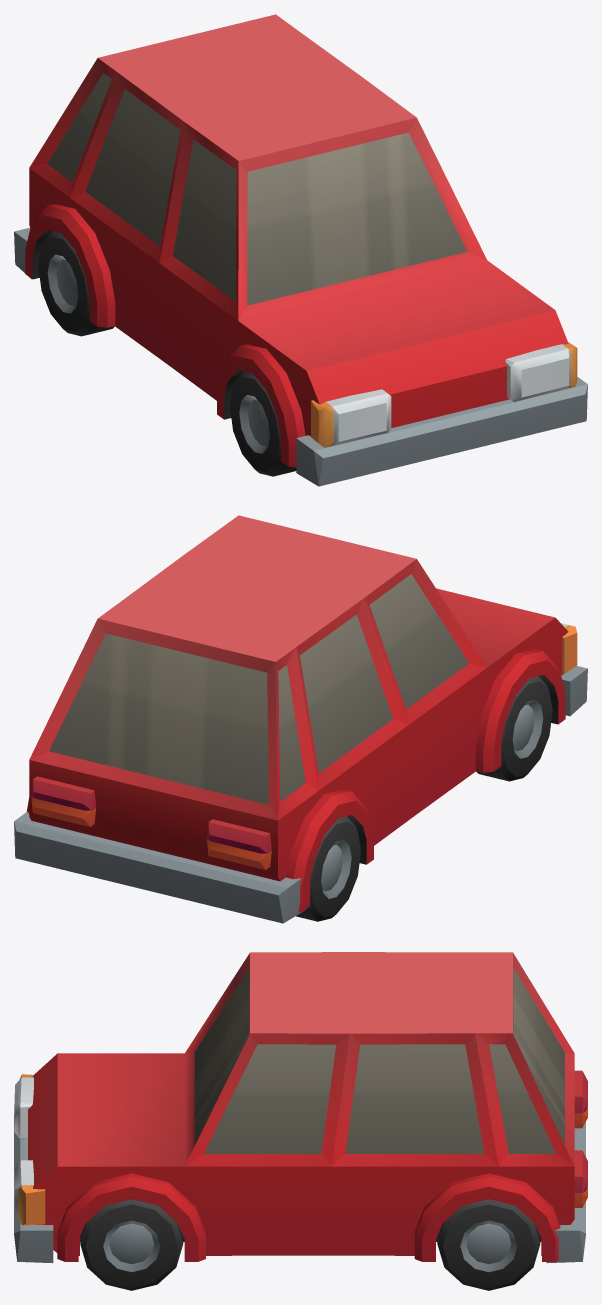
The model's file is car-hatchback.glb.
The picture shows the model from 3 angles, top to bottom: view 1: azimuth 30°, elevation 25°; view 2: azimuth 150°, elevation 25°; view 3: azimuth 270°, elevation 25°; orthographic projection. The views are drawn at different scales.
Visible parts, largest first — view 1: car_hatchback, car_hatchback_wheel_rear_right, car_hatchback_wheel_front_right; view 2: car_hatchback, car_hatchback_wheel_front_right, car_hatchback_wheel_rear_right; view 3: car_hatchback, car_hatchback_wheel_front_left, car_hatchback_wheel_rear_left.
Part boxes in pixels (<box>): car_hatchback: <box>14,14,587,486</box>; car_hatchback_wheel_rear_right: <box>38,231,114,336</box>; car_hatchback_wheel_front_right: <box>230,371,296,476</box>; car_hatchback: <box>14,515,587,923</box>; car_hatchback_wheel_front_right: <box>476,676,552,781</box>; car_hatchback_wheel_rear_right: <box>296,816,360,921</box>; car_hatchback: <box>14,952,587,1263</box>; car_hatchback_wheel_front_left: <box>80,1199,183,1290</box>; car_hatchback_wheel_rear_left: <box>437,1199,540,1290</box>.
Bounding box in the file's own units: 0.419 × 0.3688 × 0.8061.
1 material, 1 textured.
